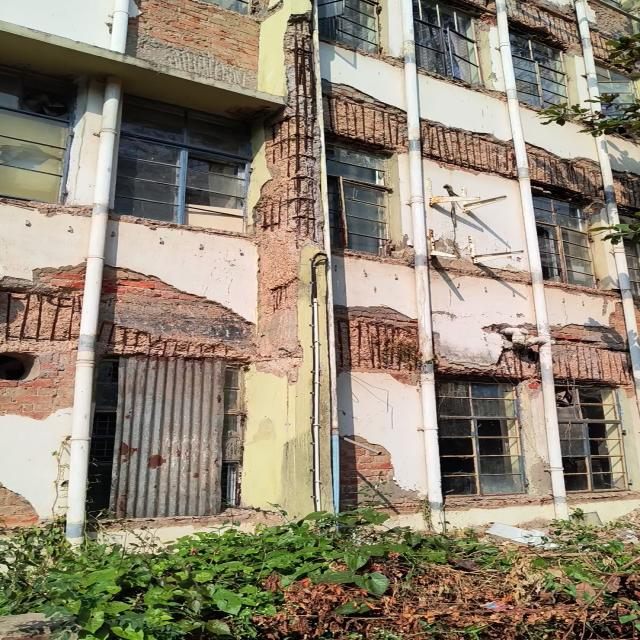Broken window pane: (0, 105, 77, 205)
Scaling: (101, 291, 252, 348), (111, 216, 248, 239), (430, 256, 530, 285), (0, 198, 91, 217), (335, 250, 414, 268), (545, 281, 619, 300)
Spalling: (246, 15, 324, 514), (97, 321, 254, 361), (421, 119, 515, 180), (324, 84, 407, 153), (335, 306, 418, 373), (0, 287, 79, 354), (528, 145, 600, 202), (507, 0, 580, 55), (552, 343, 629, 387), (437, 350, 539, 380), (588, 2, 632, 68), (447, 0, 494, 24), (621, 178, 637, 201)
exposed brickwork: (131, 0, 260, 89), (340, 435, 417, 509), (0, 348, 75, 419), (551, 305, 626, 351), (102, 269, 204, 300), (0, 483, 39, 528), (39, 268, 84, 294)
